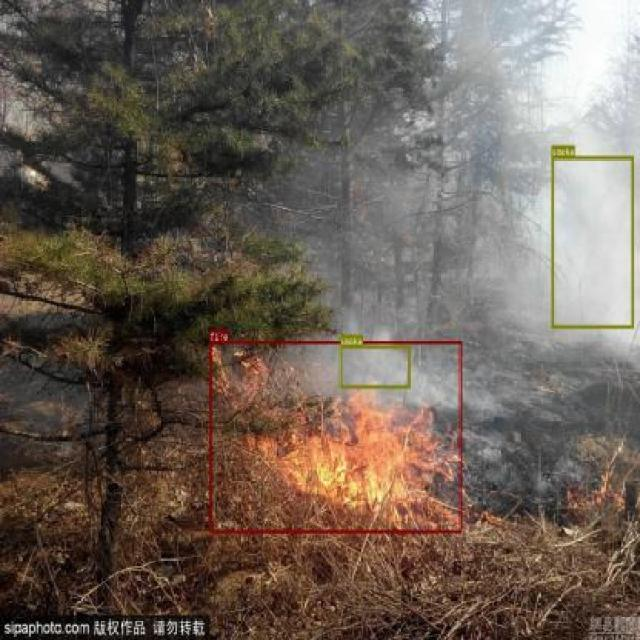Smoke: (548, 187, 624, 296), (339, 345, 410, 387)
